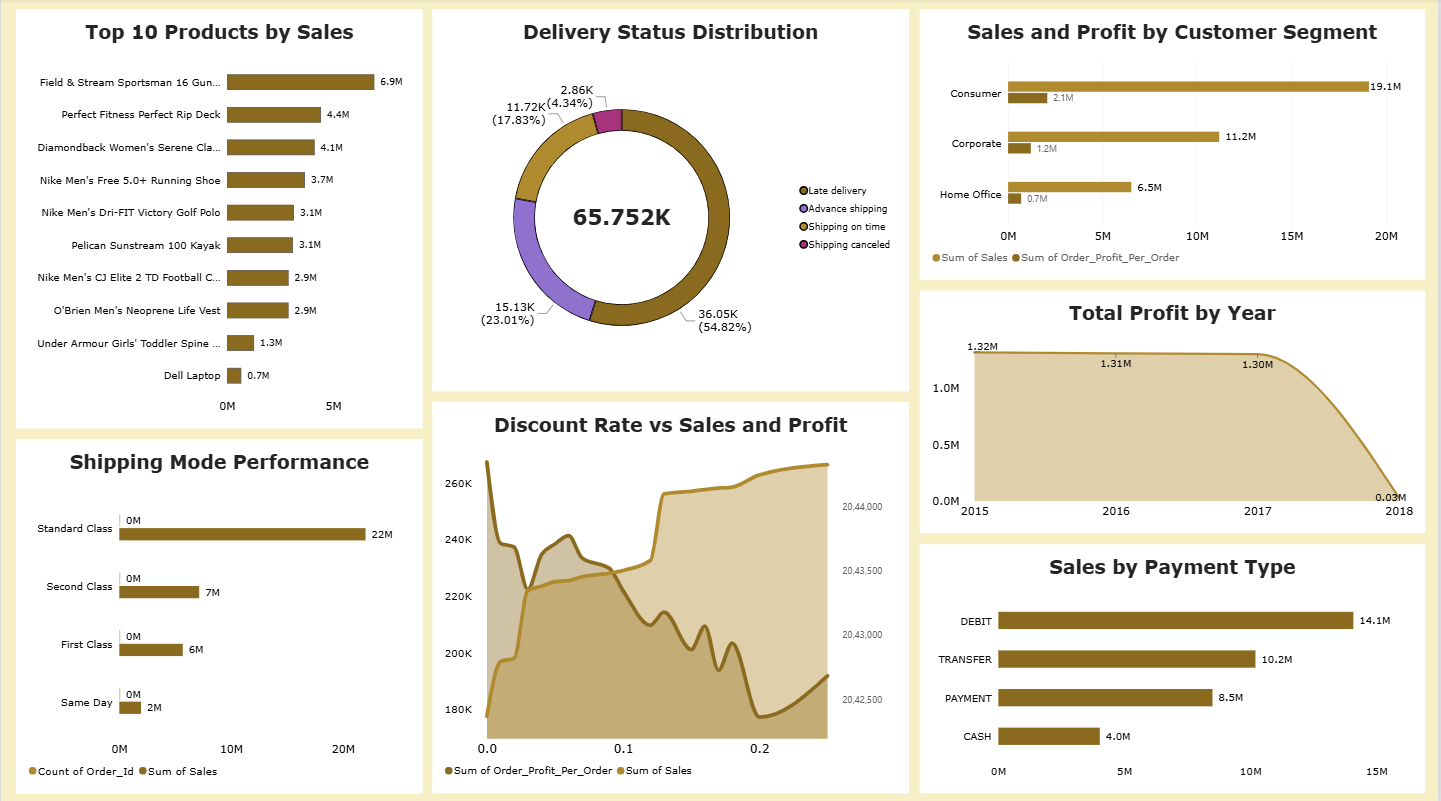

This screenshot's page, from the dashboard's own definition file:
{"tool":"powerbi","page":{"name":"Page 2","canvas":[1920,1080],"ordinal":1},"visuals":[{"type":"clusteredBarChart","title":"Sales and Profit by Customer Segment","fields":{"Category":["Supply_Chain_Cleaned.Customer_Segment"],"Y":["Sum(Supply_Chain_Cleaned.Sales)","Sum(Supply_Chain_Cleaned.Order_Profit_Per_Order)"]},"box":[1227,14.5,675,361.9],"z":0},{"type":"donutChart","title":"Delivery Status Distribution","fields":{"Category":["Supply_Chain_Cleaned.Delivery_Status"],"Y":["Count(Supply_Chain_Cleaned.Order_Id)"]},"box":[575.5,14.5,637,510.3],"z":1000},{"type":"clusteredBarChart","title":"Shipping Mode Performance","fields":{"Category":["Supply_Chain_Cleaned.Shipping_Mode"],"Y":["Count(Supply_Chain_Cleaned.Order_Id)","Sum(Supply_Chain_Cleaned.Sales)"]},"box":[20.6,588.7,543.4,473.4],"z":2000},{"type":"clusteredBarChart","title":"Sales by Payment Type","fields":{"Category":["Supply_Chain_Cleaned.Type"],"Y":["Sum(Supply_Chain_Cleaned.Sales)"]},"box":[1227,729.3,675,333],"z":3000},{"type":"lineChart","title":"Discount Rate vs Sales and Profit","fields":{"Y2":["Sum(Supply_Chain_Cleaned.Sales)"],"Y":["Sum(Supply_Chain_Cleaned.Order_Profit_Per_Order)"],"Category":["Supply_Chain_Cleaned.Discount Rate Rounded"]},"box":[575.5,539.3,637,523],"z":4000},{"type":"clusteredBarChart","title":"Top 10 Products by Sales","fields":{"Category":["Supply_Chain_Cleaned.Product_Name"],"Y":["Sum(Supply_Chain_Cleaned.Sales)"]},"box":[20.6,14.4,543.4,559.9],"z":5000},{"type":"lineChart","title":"Total Profit by Year","fields":{"Category":["Supply_Chain_Cleaned.Order_Date_DateOrders.Variation.Date Hierarchy.Year"],"Y":["Sum(Supply_Chain_Cleaned.Order_Profit_Per_Order)"]},"box":[1227,390.9,675,323.9],"z":6000}]}

Visuals, with their boxes in screenshot pixels (x1, y1, x2, y2), scaled from the page's 1920x1080 canvas onto the 1441x801 screenshot:
"Sales and Profit by Customer Segment" clusteredBarChart: x1=921 y1=11 x2=1427 y2=279
"Delivery Status Distribution" donutChart: x1=432 y1=11 x2=910 y2=389
"Shipping Mode Performance" clusteredBarChart: x1=15 y1=437 x2=423 y2=788
"Sales by Payment Type" clusteredBarChart: x1=921 y1=541 x2=1427 y2=788
"Discount Rate vs Sales and Profit" lineChart: x1=432 y1=400 x2=910 y2=788
"Top 10 Products by Sales" clusteredBarChart: x1=15 y1=11 x2=423 y2=426
"Total Profit by Year" lineChart: x1=921 y1=290 x2=1427 y2=530
